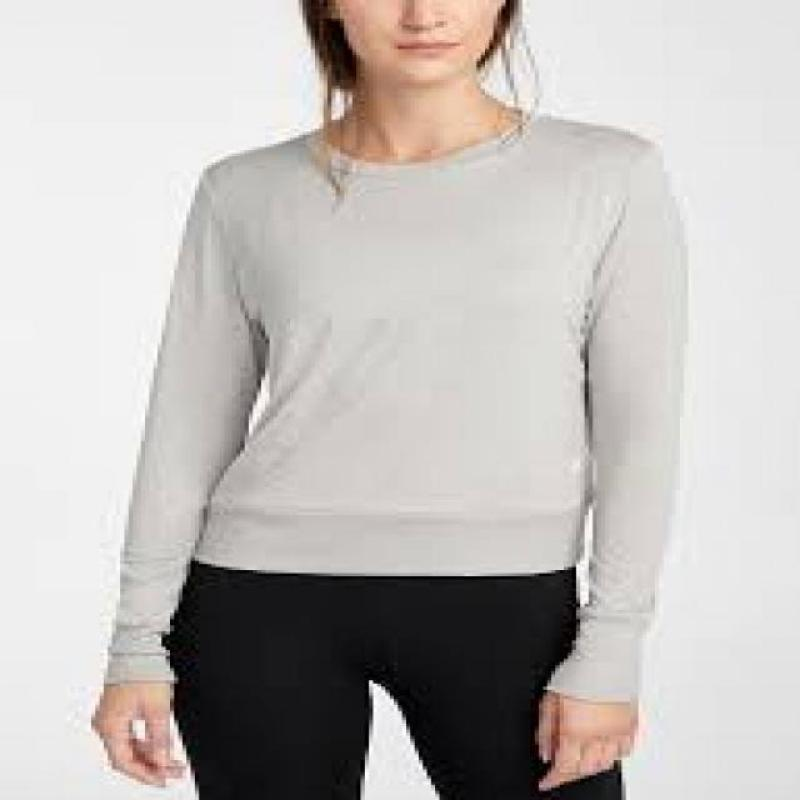sweater: (105, 112, 692, 704)
trousers: (161, 561, 627, 800)
